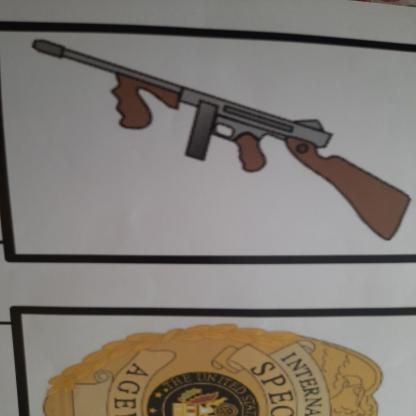Bootlegger: (25, 33, 416, 249)
G-man: (18, 316, 400, 416)
